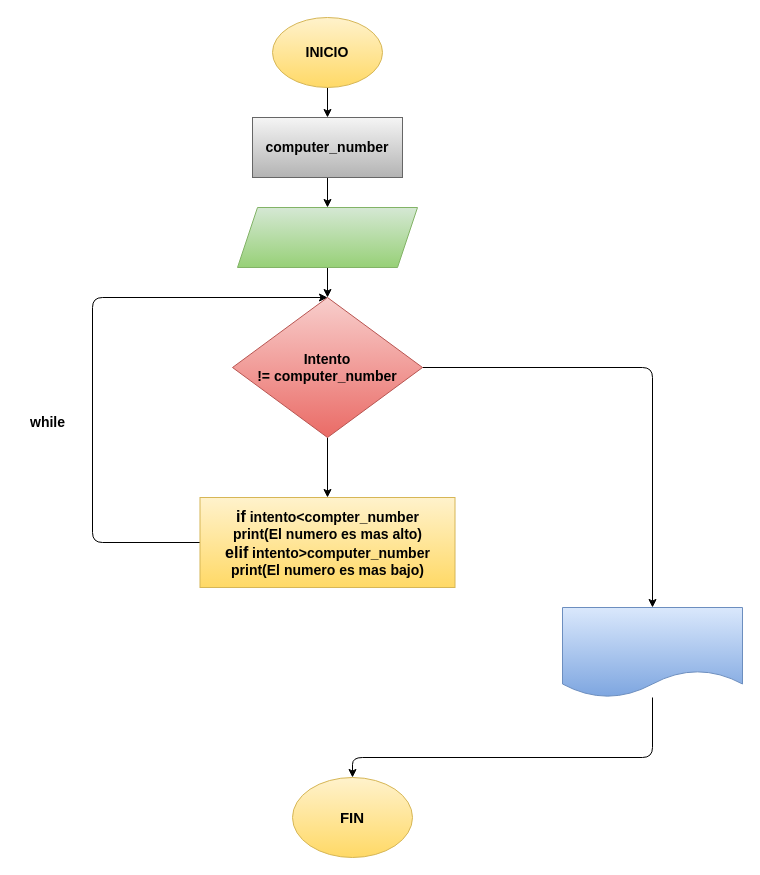
This 760x875 diagram has some shape labels left out. The shapes that lost their labels are listed below. From the top down, each one's box as (x1, y1, x2, y2) in pixels, then its label:
(236, 206, 418, 268): Intento
(562, 606, 742, 698): "FELICIDADES HAS ADIVINADO EL NUMERO"
